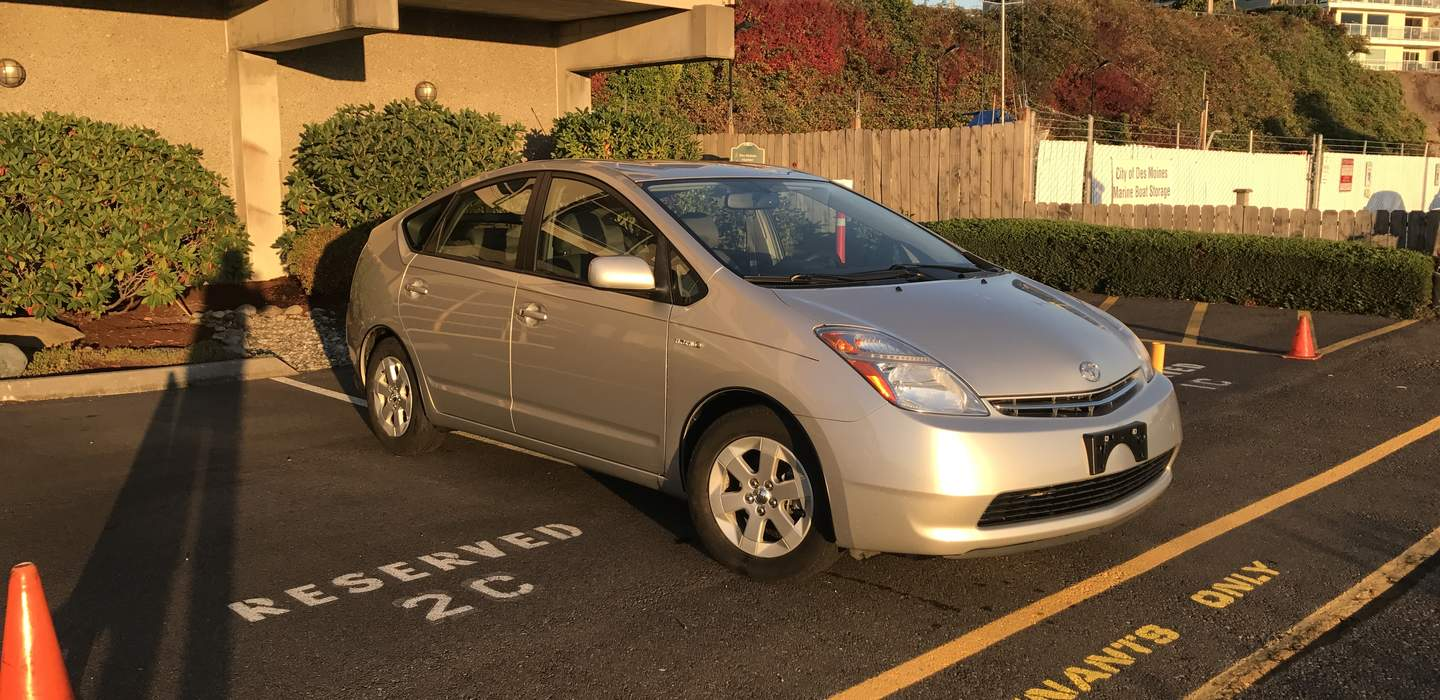Toyota Prius: (345, 157, 1183, 584)
